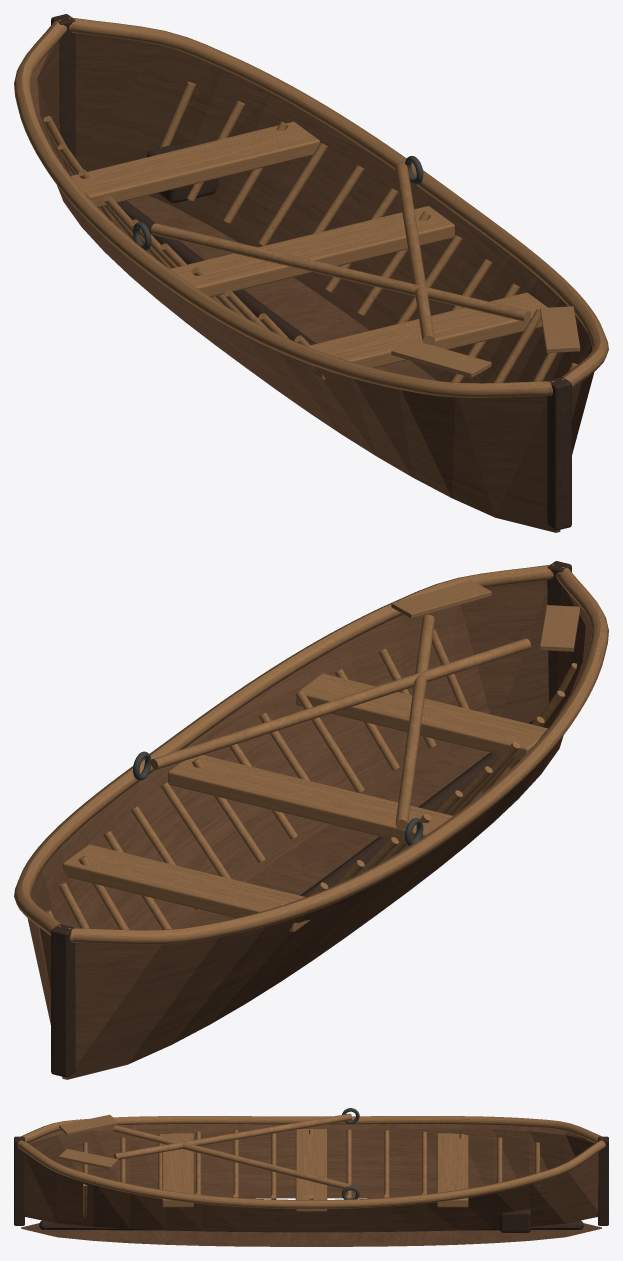
File: rowboat.glb
The picture shows the model from 3 angles, top to bottom: view 1: azimuth 30°, elevation 25°; view 2: azimuth 150°, elevation 25°; view 3: azimuth 270°, elevation 25°; orthographic projection. The views are drawn at different scales.
Parts seen in each view (by area): view 1: rowboat; view 2: rowboat; view 3: rowboat.
Part boxes in pixels (box(x1,y1,x2,y2)): rowboat: box(14, 14, 608, 532); rowboat: box(14, 561, 608, 1079); rowboat: box(14, 1108, 608, 1246).
Size of the model in its own units: 1.4 by 0.7 by 4.
Materials: 1 (1 with a texture image).
